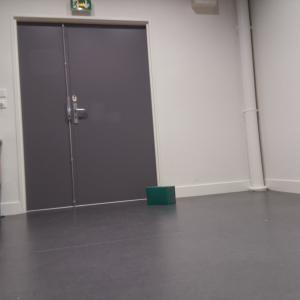small: (143, 183, 179, 209)
